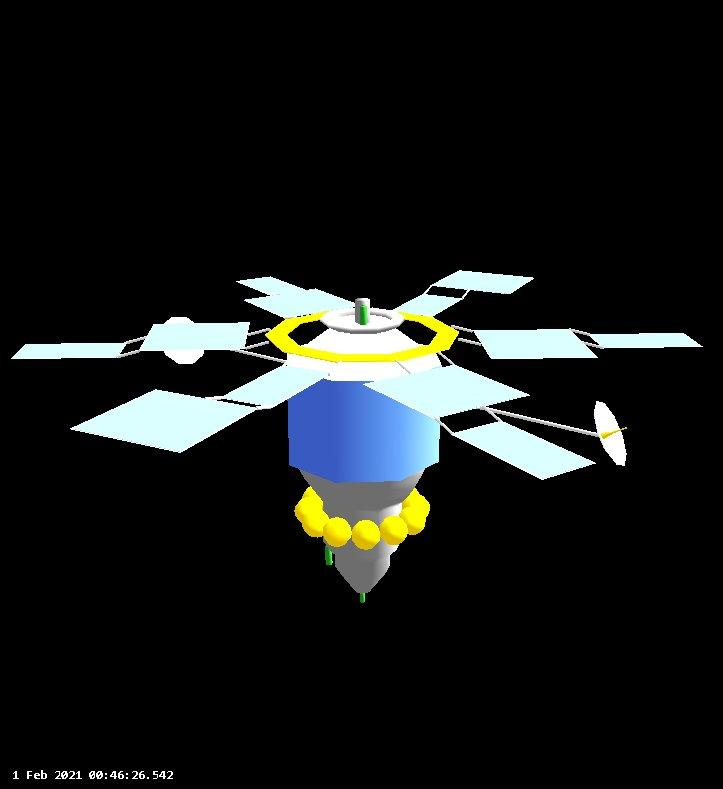antenna: (590, 397, 632, 470)
body: (279, 309, 444, 597)
solar: (363, 363, 597, 487), (65, 359, 324, 460), (9, 312, 253, 367), (389, 264, 536, 321), (234, 273, 359, 321)
thruster: (352, 293, 376, 327), (318, 535, 337, 570), (353, 582, 372, 608)
